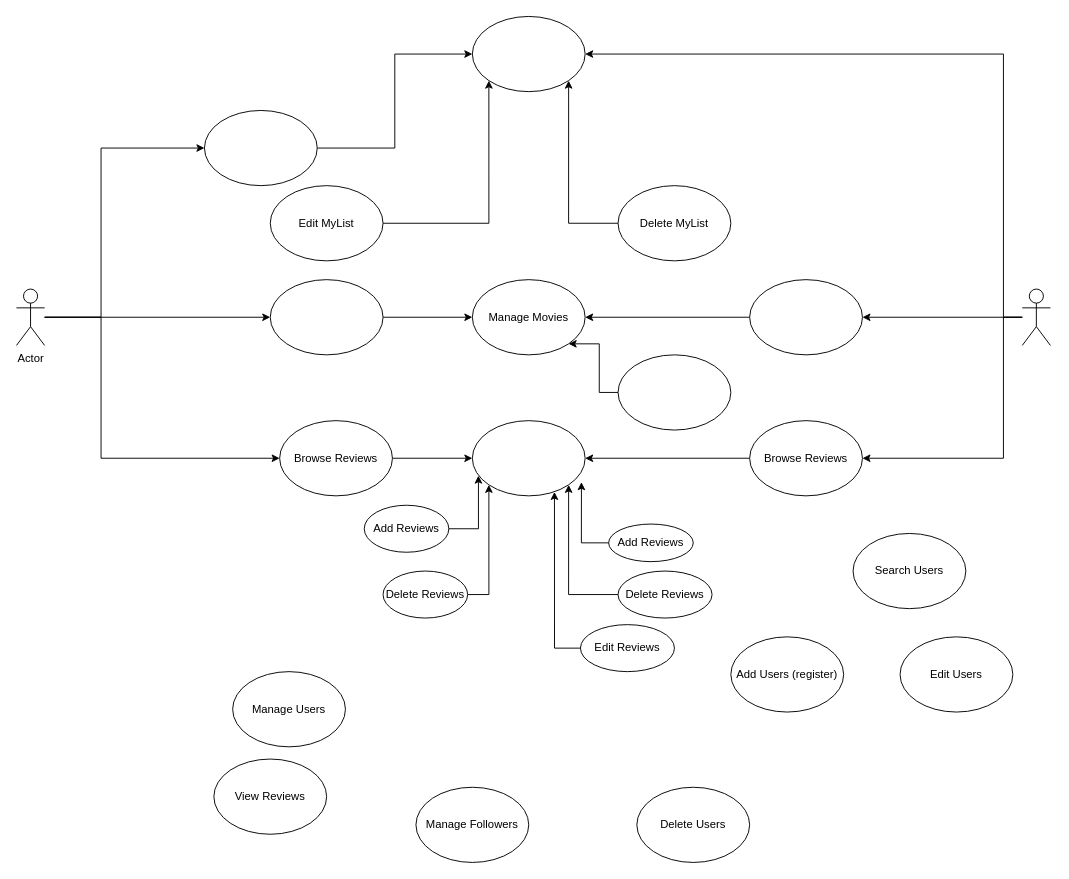
This 1069x879 diagram has some shape labels left out. Here are the shapes that lost their labels. From the top down, the box of each, then its label:
(471, 16, 585, 92): Manage MyList
(204, 110, 317, 186): Browse MyList
(269, 279, 383, 355): Browse Movies
(749, 279, 862, 355): Edit Movies
(1021, 288, 1050, 345): Admin
(617, 354, 731, 430): Add Movies
(471, 420, 585, 496): Manage Reviews
